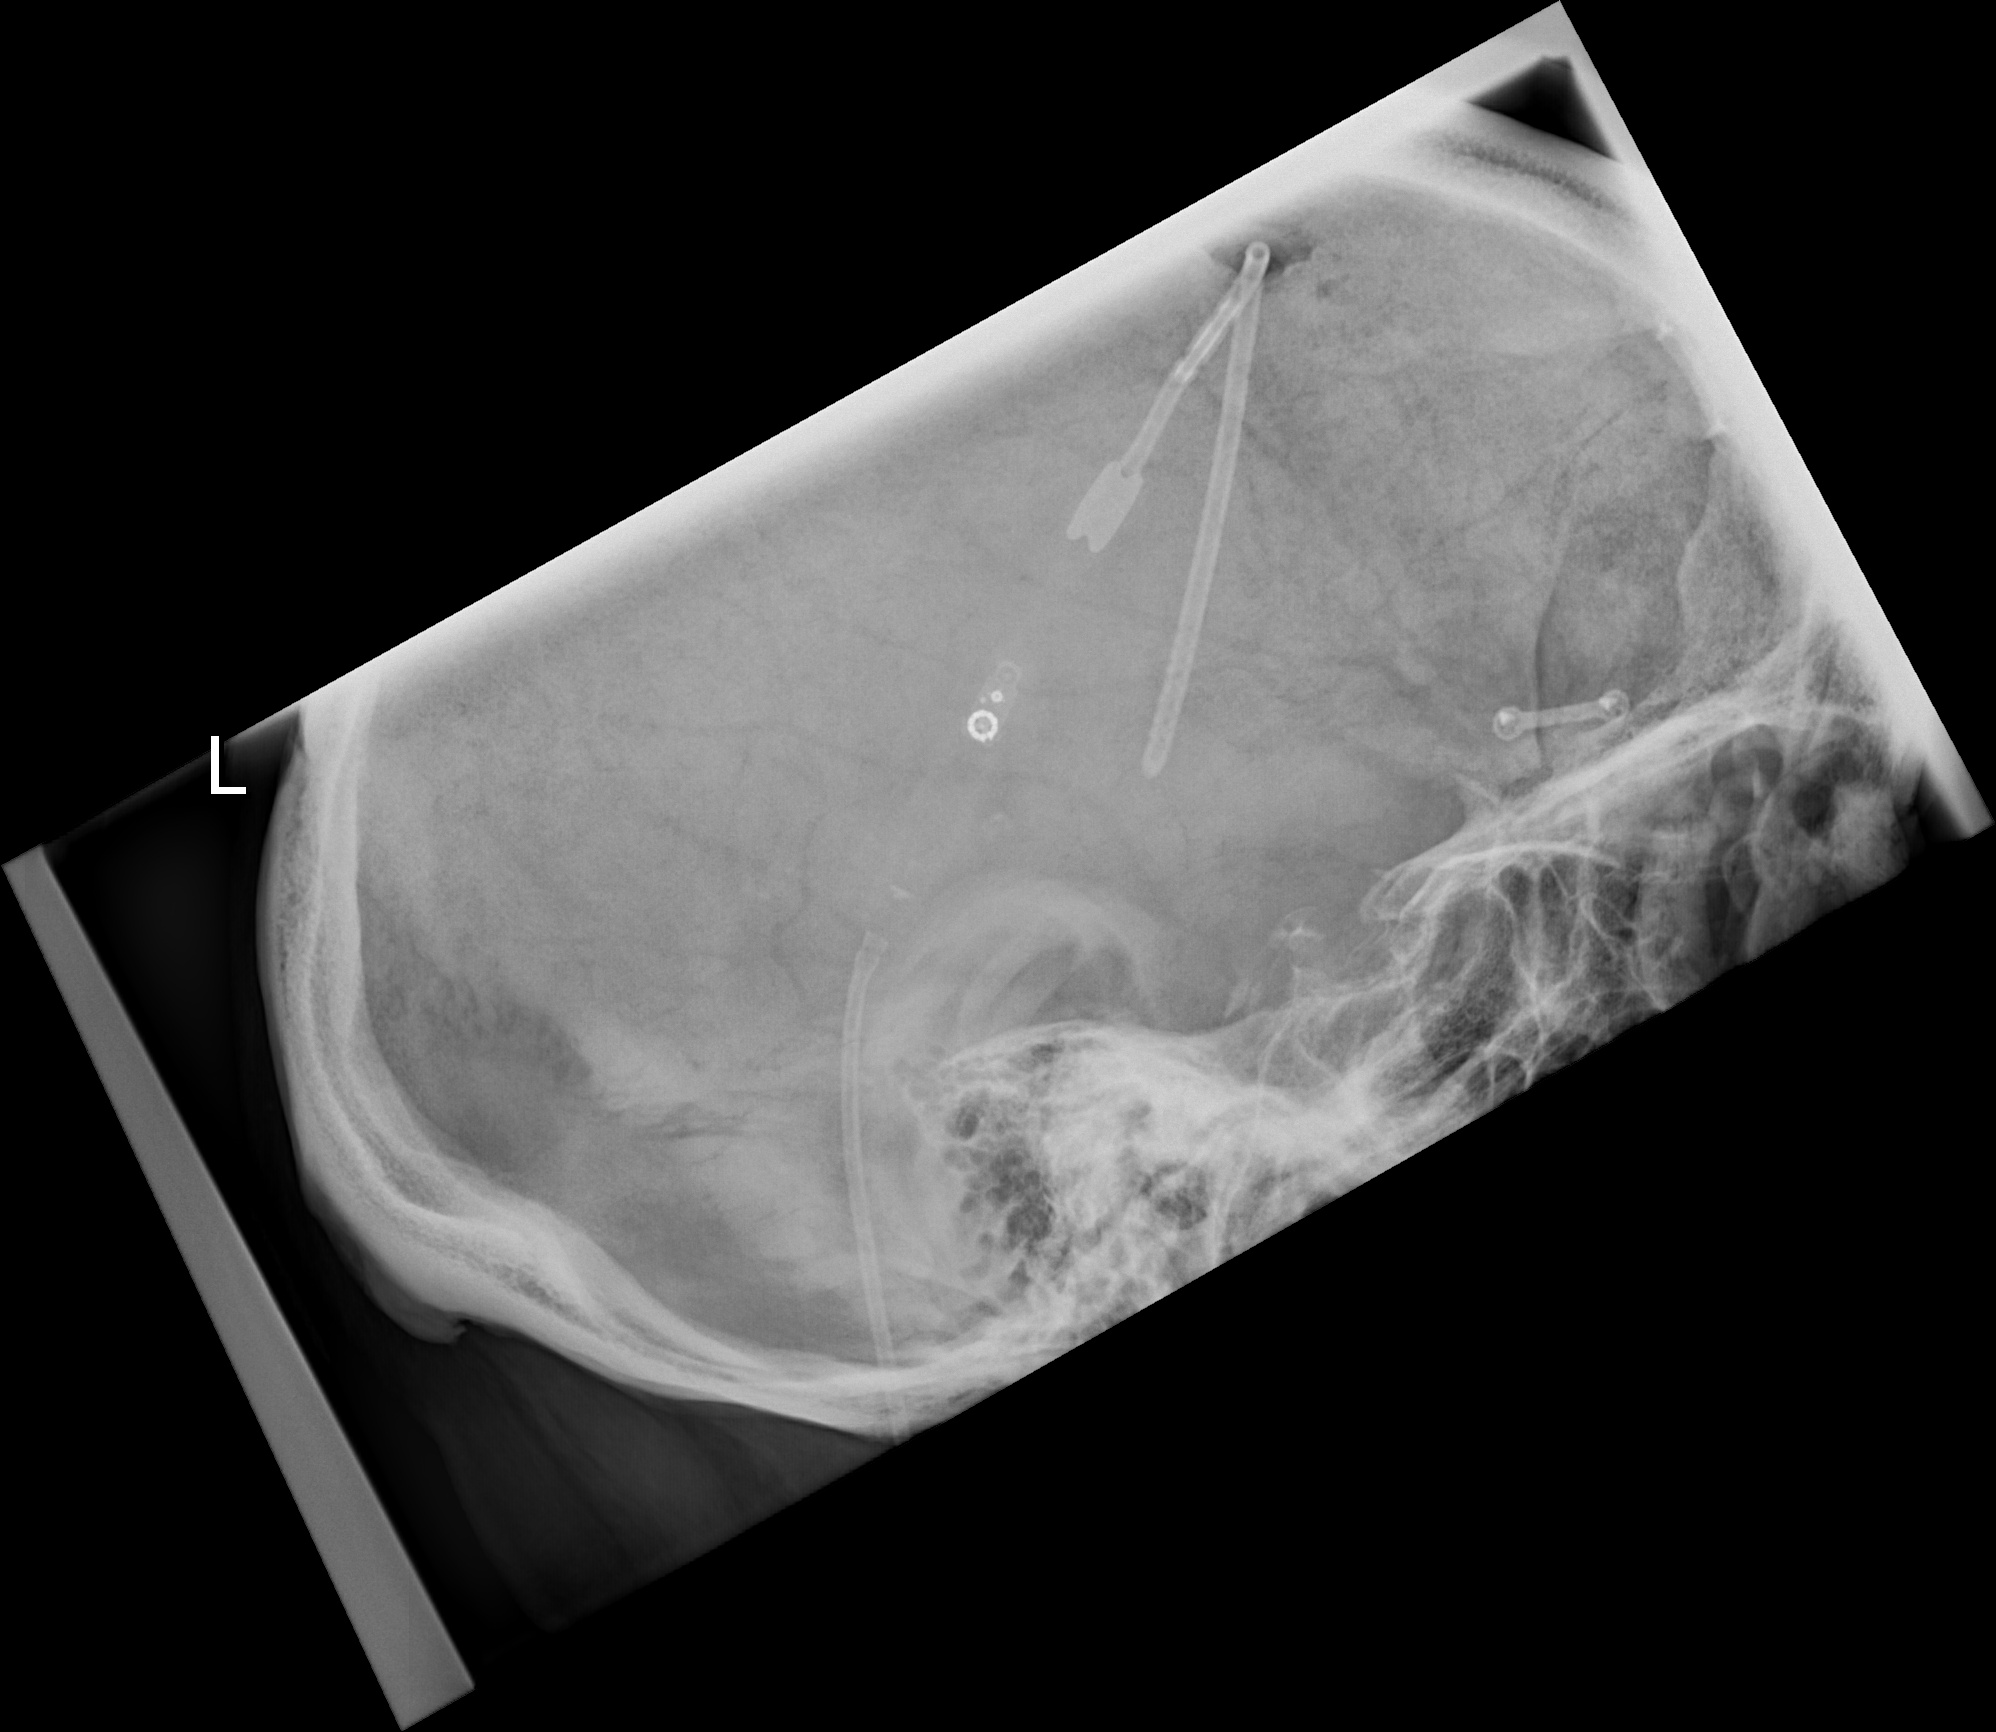Codman Hakim: (949, 666, 1023, 766)
